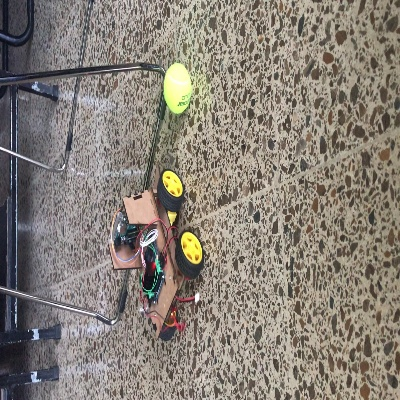Ball: (163, 62, 191, 114)
Robot: (108, 169, 202, 341)
